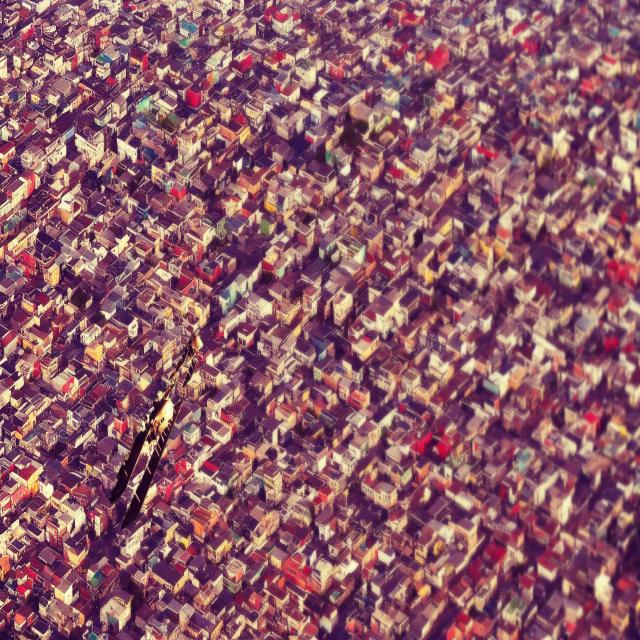airplane: (110, 339, 197, 526)
